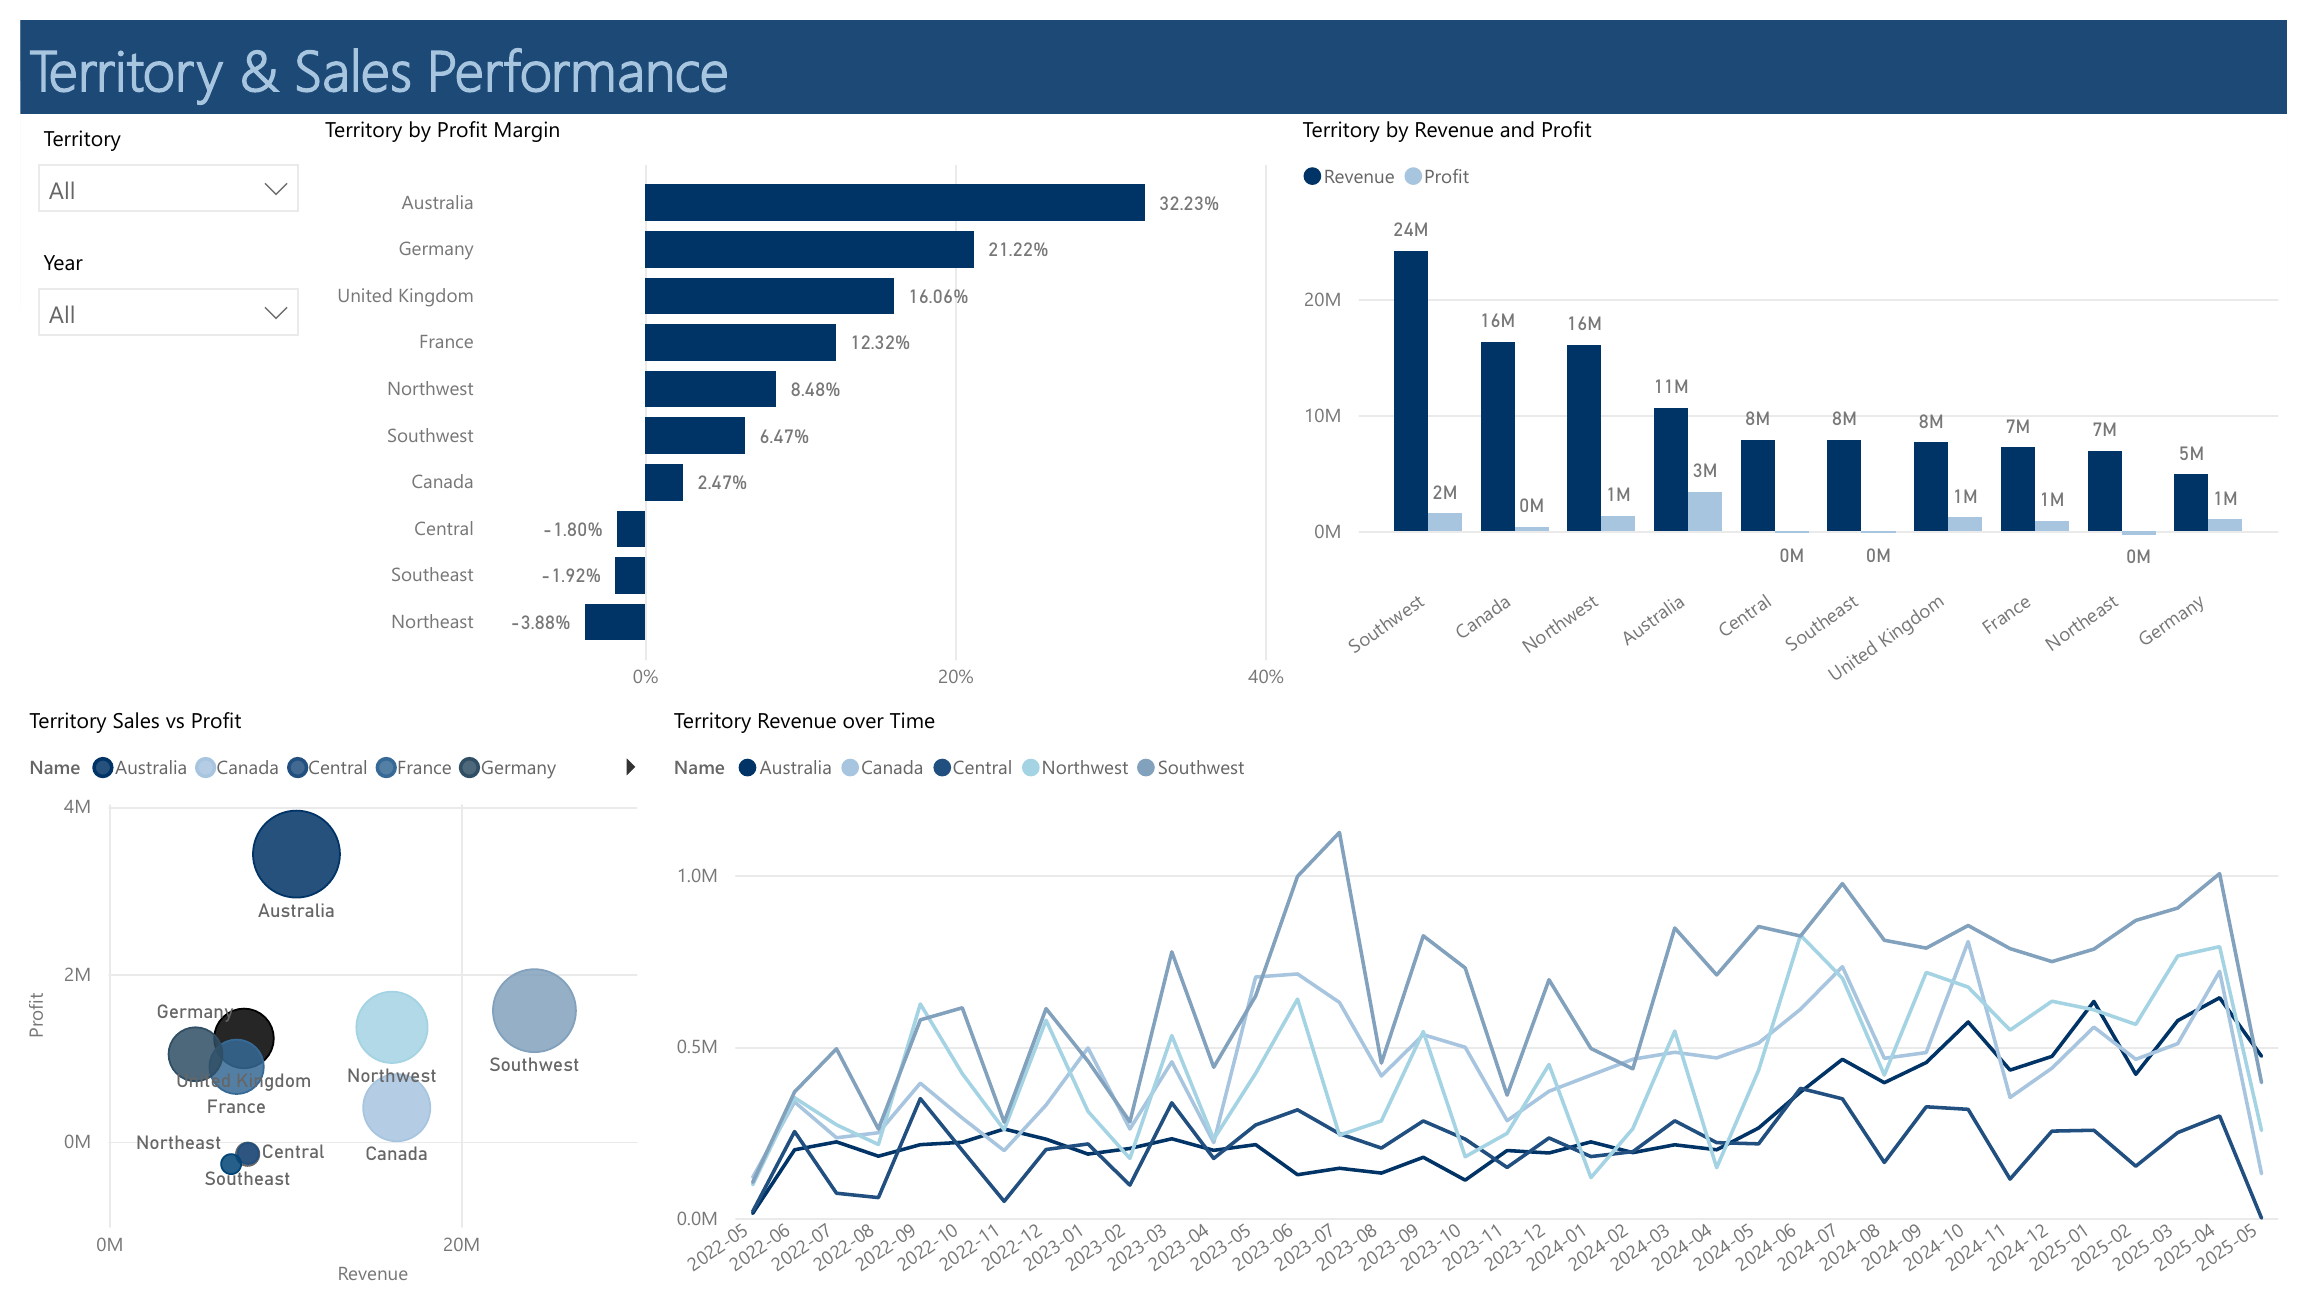

This screenshot's page, from the dashboard's own definition file:
{"tool":"powerbi","page":{"name":"Territory & Sales Performance","canvas":[1280,720],"ordinal":3},"visuals":[{"type":"clusteredColumnChart","title":"Territory by Revenue and Profit","fields":{"Category":["Sales SalesTerritory.Name"],"Y":["Measure.Revenue","Measure.Profit"]},"box":[719.2,53,560.3,334.6],"z":0},{"type":"lineChart","title":"Territory Revenue over Time","fields":{"Category":["DateTable.Year-Month"],"Y":["Measure.Revenue"],"Series":["Sales SalesTerritory.Name"]},"box":[364.1,387.4,915.5,331.8],"z":1000},{"type":"slicer","fields":{"Values":["Sales SalesTerritory.Name"]},"box":[0,53,166.6,69.7],"z":2000},{"type":"barChart","title":"Territory by Profit Margin","fields":{"Category":["Sales SalesTerritory.Name"],"Y":["Measure.Margin"]},"box":[166.6,53,552.7,334.6],"z":3000},{"type":"scatterChart","title":"Territory Sales vs Profit","fields":{"X":["Measure.Revenue"],"Y":["Measure.Profit"],"Category":["Sales SalesTerritory.Name"],"Size":["Measure.TotalOrders"],"Series":["Sales SalesTerritory.Name"]},"box":[0,387.4,364.1,331.8],"z":4000},{"type":"textbox","box":[0,0,1279.5,53],"z":5000},{"type":"slicer","fields":{"Values":["DateTable.Year"]},"box":[0,122.7,166.6,68.1],"z":6000}]}

Visuals, with their boxes in screenshot pixels (x1, y1, x2, y2), scaled from the page's 1280x720 canvas onto the 2308x1301 screenshot:
"Territory by Revenue and Profit" clusteredColumnChart: crop(1297, 96, 2307, 700)
"Territory Revenue over Time" lineChart: crop(657, 700, 2307, 1300)
slicer - Sales SalesTerritory.Name: crop(0, 96, 300, 222)
"Territory by Profit Margin" barChart: crop(300, 96, 1297, 700)
"Territory Sales vs Profit" scatterChart: crop(0, 700, 657, 1300)
textbox: crop(0, 0, 2307, 96)
slicer - DateTable.Year: crop(0, 222, 300, 345)
